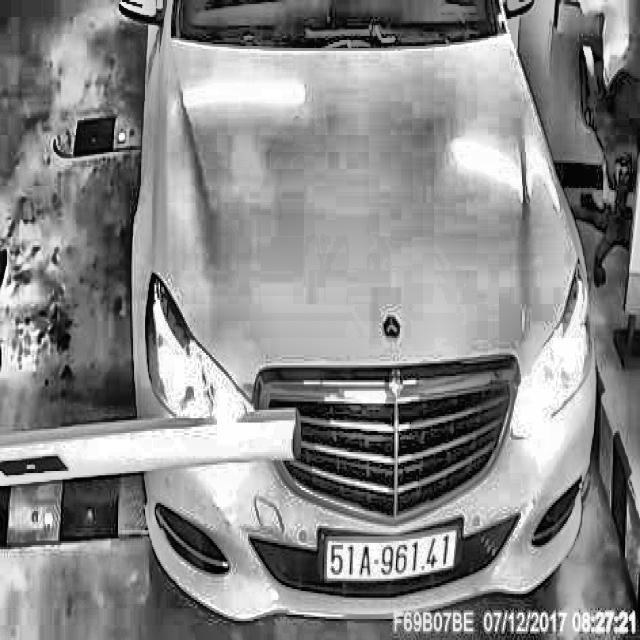plate: (317, 522, 465, 590)
